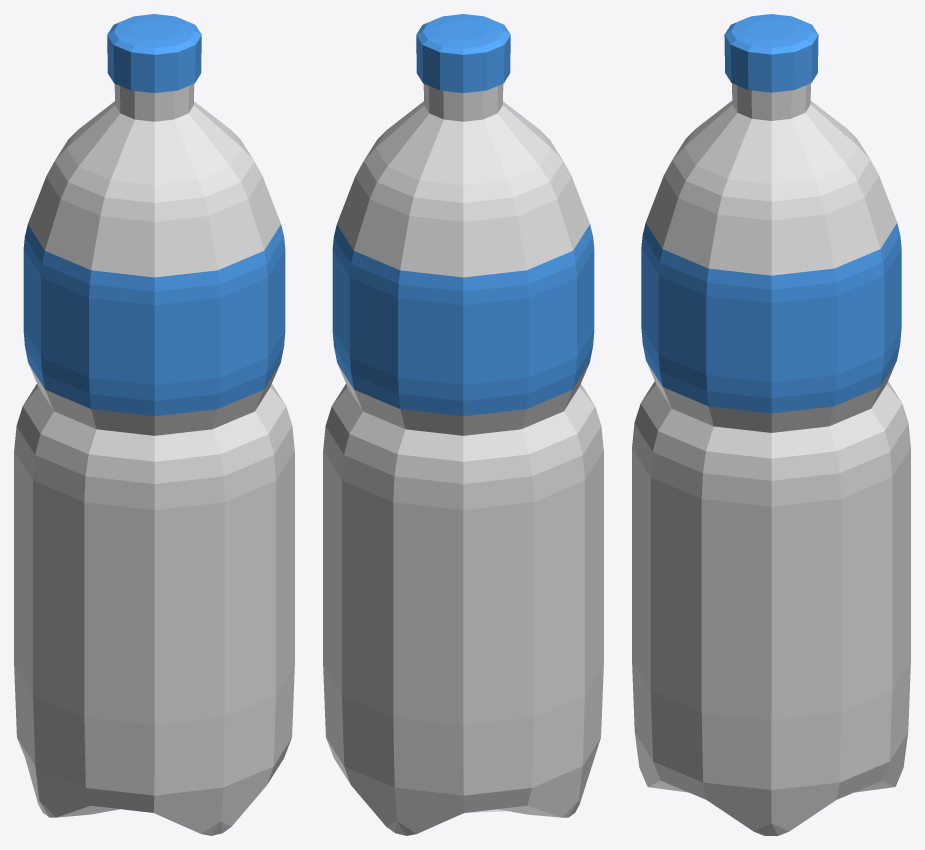
The model's file is water-bottle.fbx.
3 views of the same model, side by side, from view 1: azimuth 30°, elevation 25°; view 2: azimuth 150°, elevation 25°; view 3: azimuth 270°, elevation 25° (orthographic).
Visible parts, largest first — view 1: Cylinder.002; view 2: Cylinder.002; view 3: Cylinder.002.
Boxes of the visible parts, x1,y1,x2,y2 form: Cylinder.002: (14,14,294,835); Cylinder.002: (323,14,603,835); Cylinder.002: (632,14,910,835).
Bounding box in the file's own units: 36.48 × 109 × 36.51.
